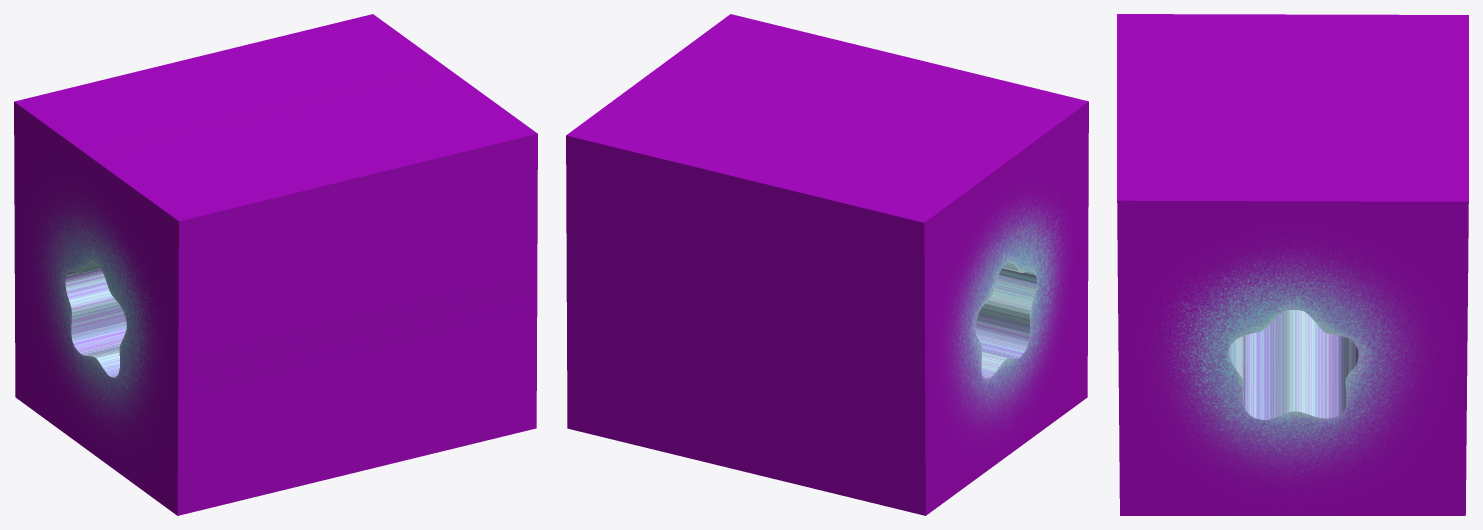
Rendered from caveexit4.fbx.
3 renders of one model, left to right at view 1: azimuth 30°, elevation 25°; view 2: azimuth 150°, elevation 25°; view 3: azimuth 270°, elevation 25°, orthographic. The views are drawn at different scales.
Visible parts, largest first — view 1: caveexit4; view 2: caveexit4; view 3: caveexit4.
Part boxes in pixels (bbox=[...]): caveexit4: bbox=[14, 14, 537, 515]; caveexit4: bbox=[566, 14, 1088, 515]; caveexit4: bbox=[1117, 14, 1468, 515].
Bounding box in the file's own units: 372 × 293 × 296.
